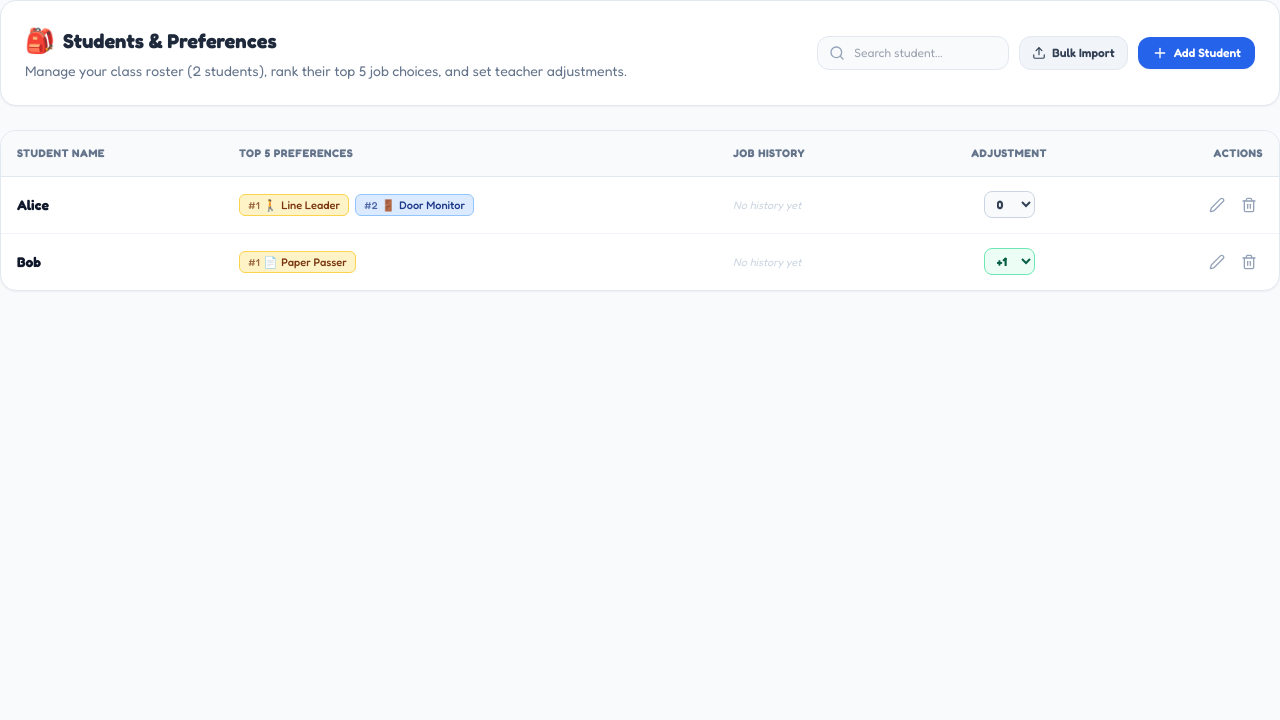
Test: StudentManager › shows empty preferences as blank (not prefilled) when adding new student
# Click Add Student
What coordinates should you click on to do the following:
click the button "Add Student"
I would click on:
 (1196, 53)
Its box is [1138,37,1255,69].
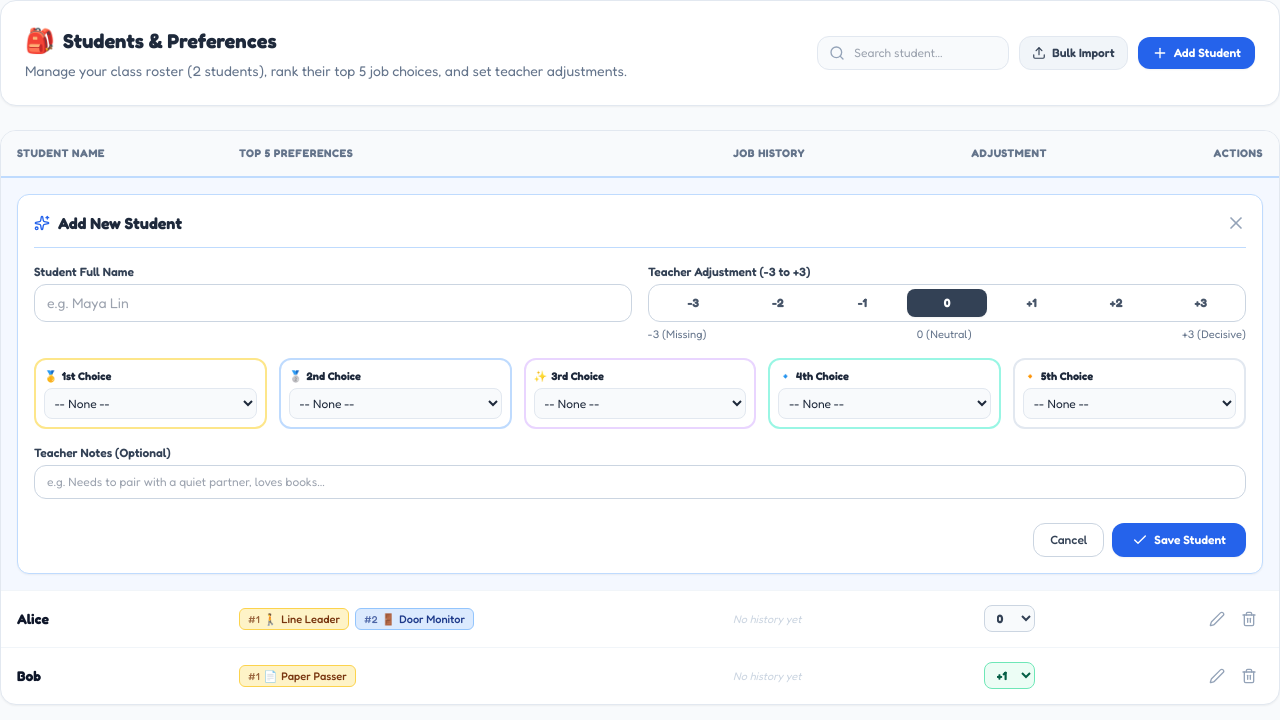
Check: the heading "Add New Student" is shown, box [34,210,182,234]
Check: the dropdown below "1st Choice" shows "-- None --", box [44,388,257,418]
Check: the dropdown below "2nd Choice" shows "-- None --", box [289,388,502,418]
